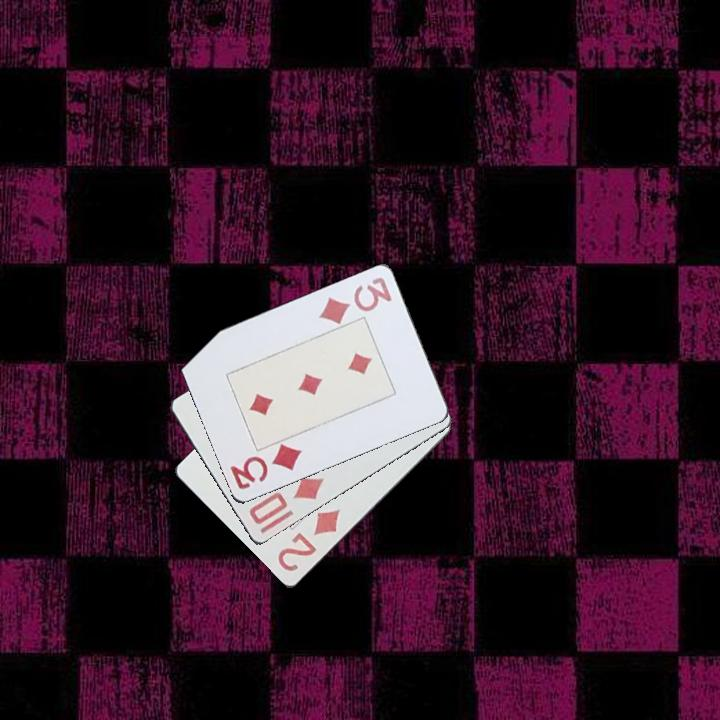2d: (274, 506, 343, 577)
3d: (315, 274, 395, 327), (226, 441, 305, 493)
Td: (245, 474, 328, 528)
